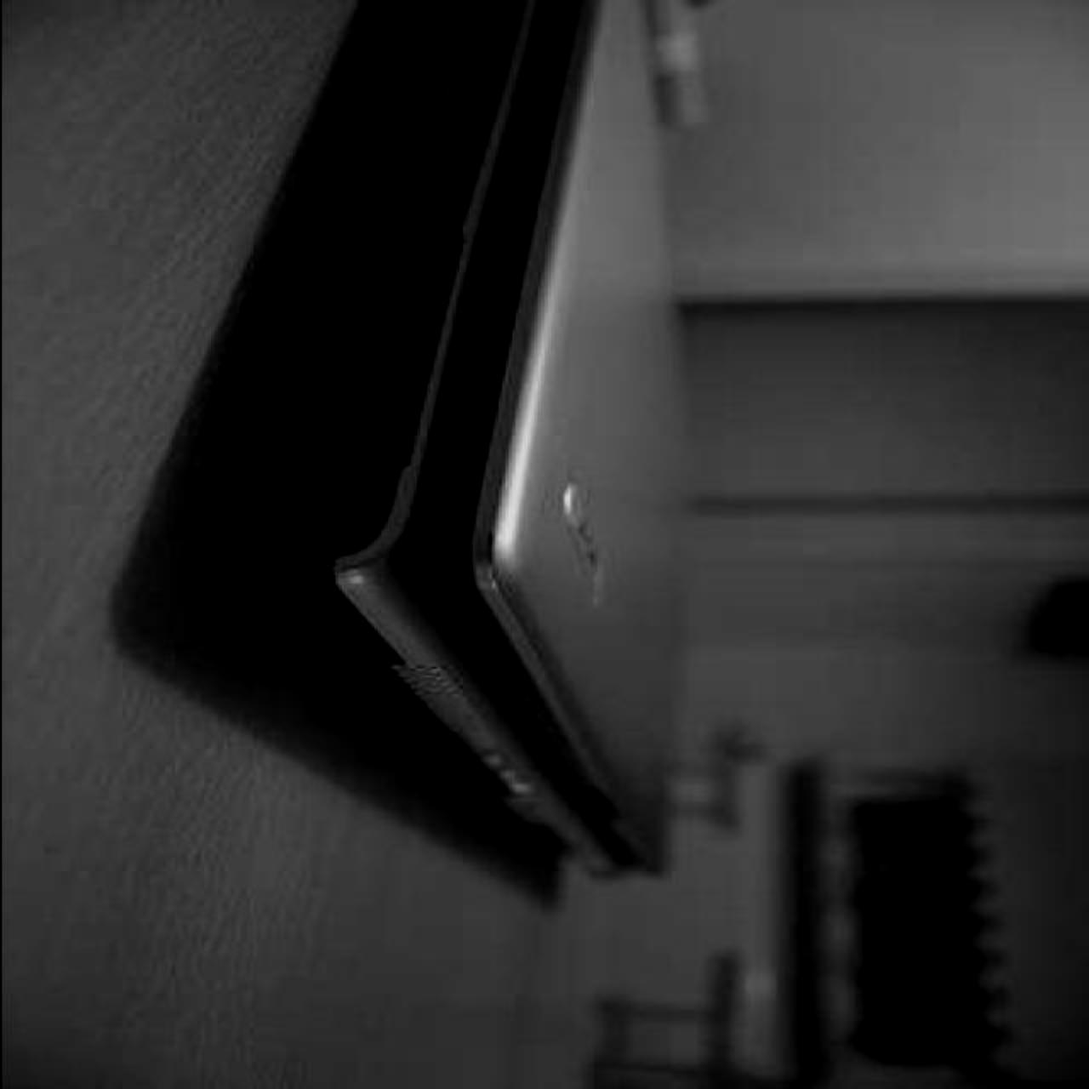laptop: (274, 60, 686, 876)
